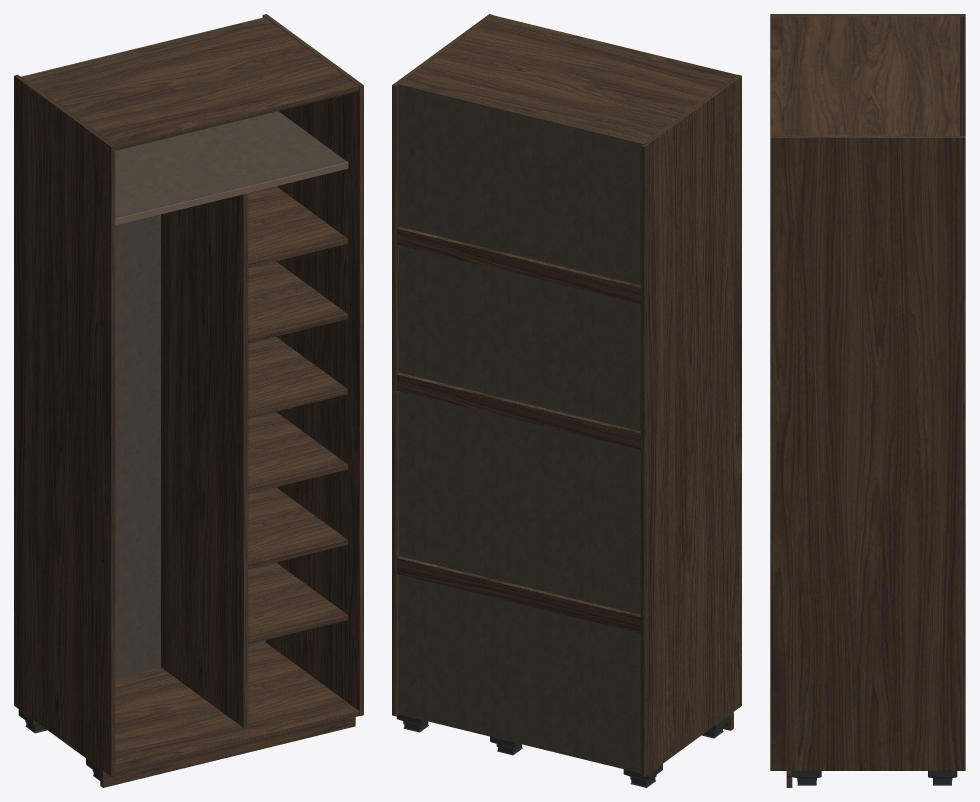
3 renders of one model, left to right at view 1: azimuth 30°, elevation 25°; view 2: azimuth 150°, elevation 25°; view 3: azimuth 270°, elevation 25°, orthographic.
Parts seen in each view (by area): view 1: HK1001077; view 2: HK1001077; view 3: HK1001077.
Part boxes in pixels (x1,y1,x2,y2): HK1001077: [14, 14, 363, 787]; HK1001077: [392, 14, 741, 787]; HK1001077: [770, 14, 965, 787].
Size of the model in its own units: 0.9 by 2.2 by 0.6.
Materials: 7 (6 with a texture image).
